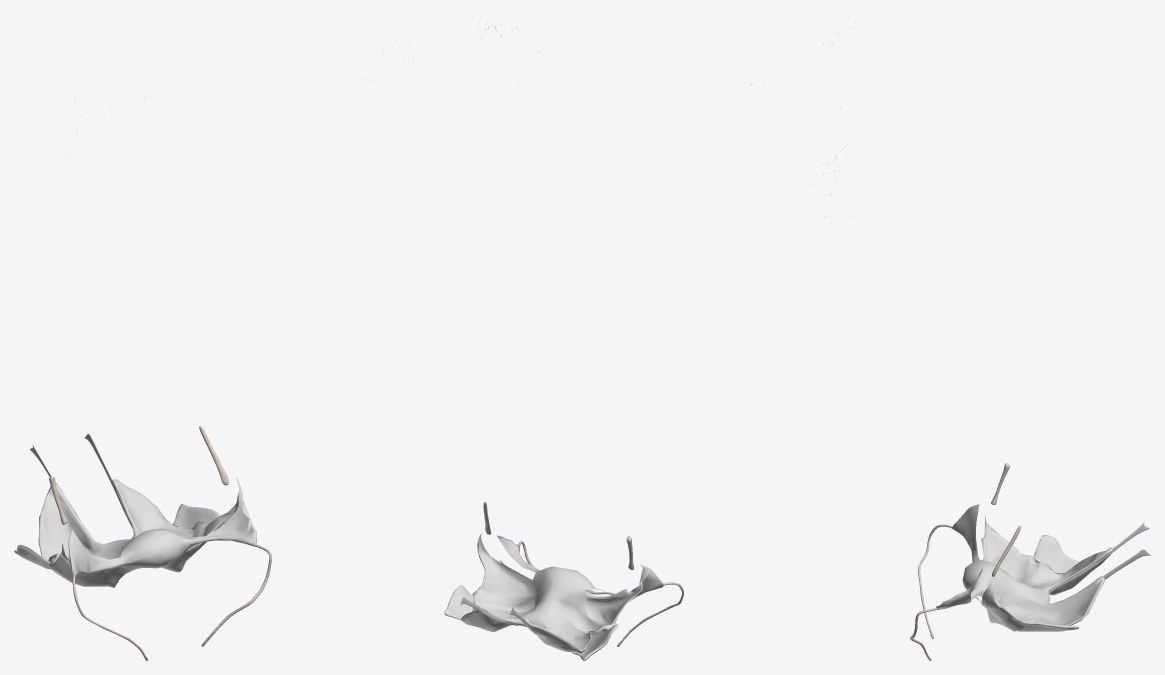
Rendered from joints.glb.
3 renders of one model, left to right at view 1: azimuth 30°, elevation 25°; view 2: azimuth 150°, elevation 25°; view 3: azimuth 270°, elevation 25°, orthographic. The views are drawn at different scales.
Visible parts, largest first — view 1: HRA-VH_F_broad_ligament, HRA-VH_F_left_cardinal_ligament_of_uterus; view 2: HRA-VH_F_broad_ligament, HRA-VH_F_left_cardinal_ligament_of_uterus, HRA-VH_F_right_cardinal_ligament_of_uterus; view 3: HRA-VH_F_broad_ligament, HRA-VH_F_right_cardinal_ligament_of_uterus.
Boxes of the visible parts, x1,y1,x2,y2 form: HRA-VH_F_broad_ligament: [38, 477, 256, 587]; HRA-VH_F_left_cardinal_ligament_of_uterus: [173, 504, 219, 551]; HRA-VH_F_broad_ligament: [460, 528, 663, 653]; HRA-VH_F_left_cardinal_ligament_of_uterus: [444, 585, 473, 619]; HRA-VH_F_right_cardinal_ligament_of_uterus: [571, 624, 618, 660]; HRA-VH_F_broad_ligament: [936, 504, 1112, 631]; HRA-VH_F_right_cardinal_ligament_of_uterus: [1033, 535, 1079, 572].
Size of the model in its own units: 0.5813 by 0.9683 by 0.523.
